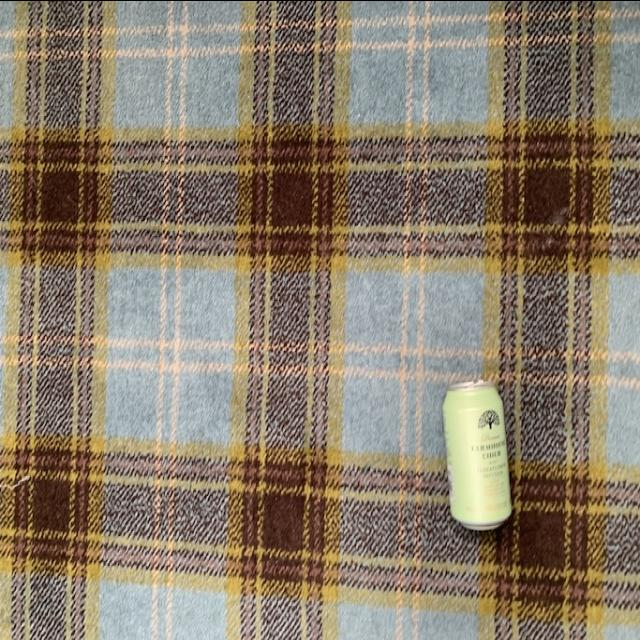litter: (440, 376, 514, 532)
